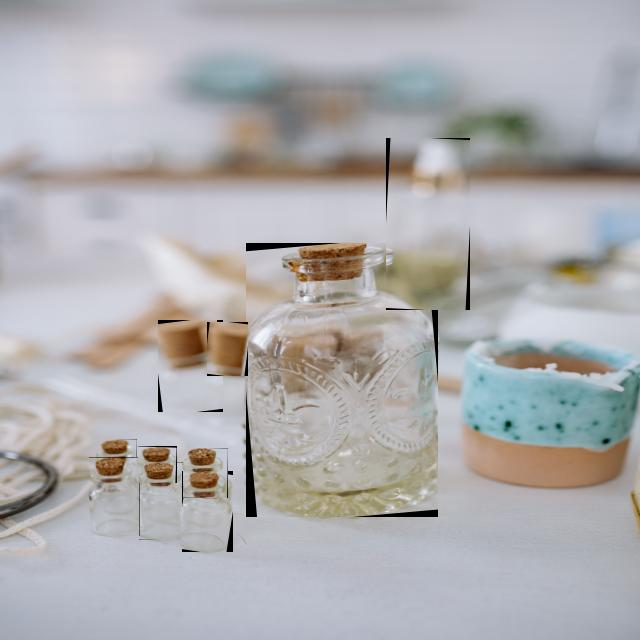Bottle: (245, 244, 436, 517), (385, 139, 468, 309), (157, 321, 222, 412), (181, 472, 231, 551), (88, 458, 138, 535), (138, 462, 182, 540), (206, 322, 247, 375), (182, 449, 222, 490), (95, 440, 136, 476), (137, 446, 175, 476)
